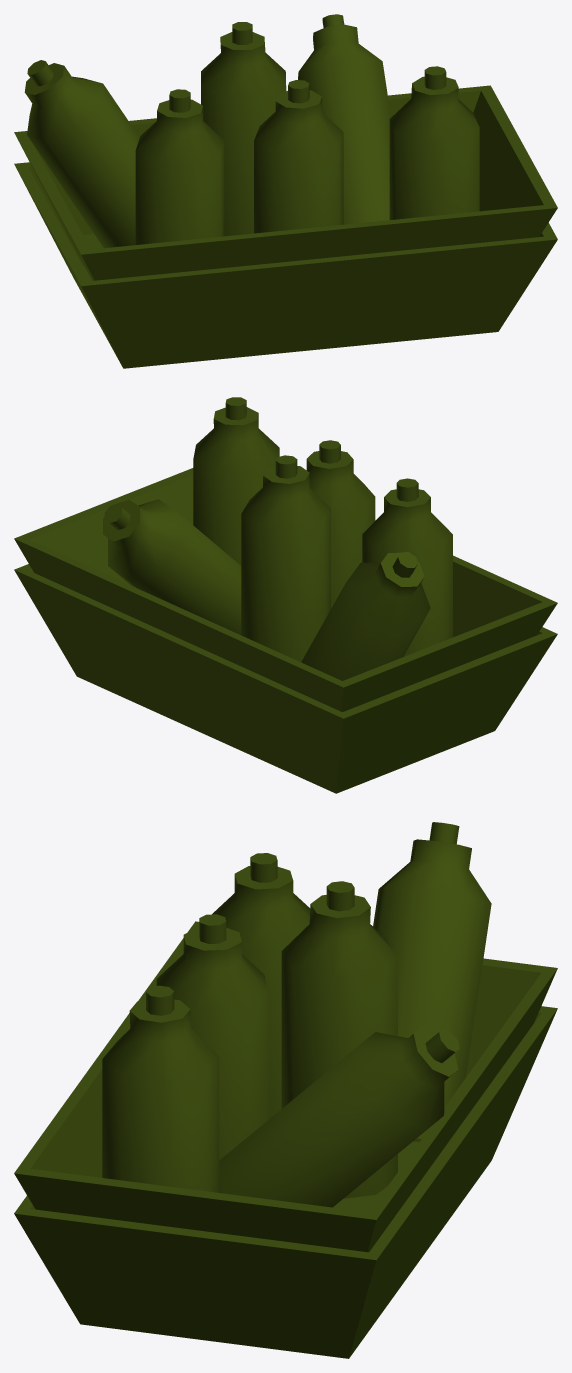
3 renders of one model, top to bottom at view 1: azimuth 30°, elevation 25°; view 2: azimuth 150°, elevation 25°; view 3: azimuth 270°, elevation 25°, orthographic. The views are drawn at different scales.
Parts seen in each view (by area): view 1: Box4; view 2: Box4; view 3: Box4.
Boxes of the visible parts, x1,y1,x2,y2 form: Box4: (14,14,557,368); Box4: (14,397,557,793); Box4: (14,822,557,1358).
Size of the model in its own units: 0.2018 by 0.1077 by 0.1554.
